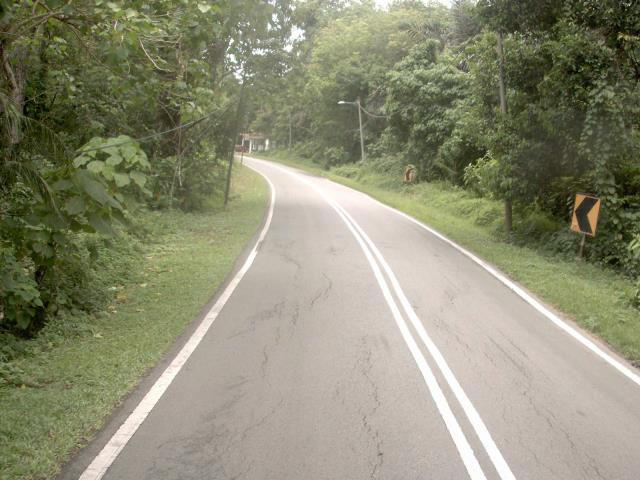traffic_sign: (562, 188, 608, 242)
